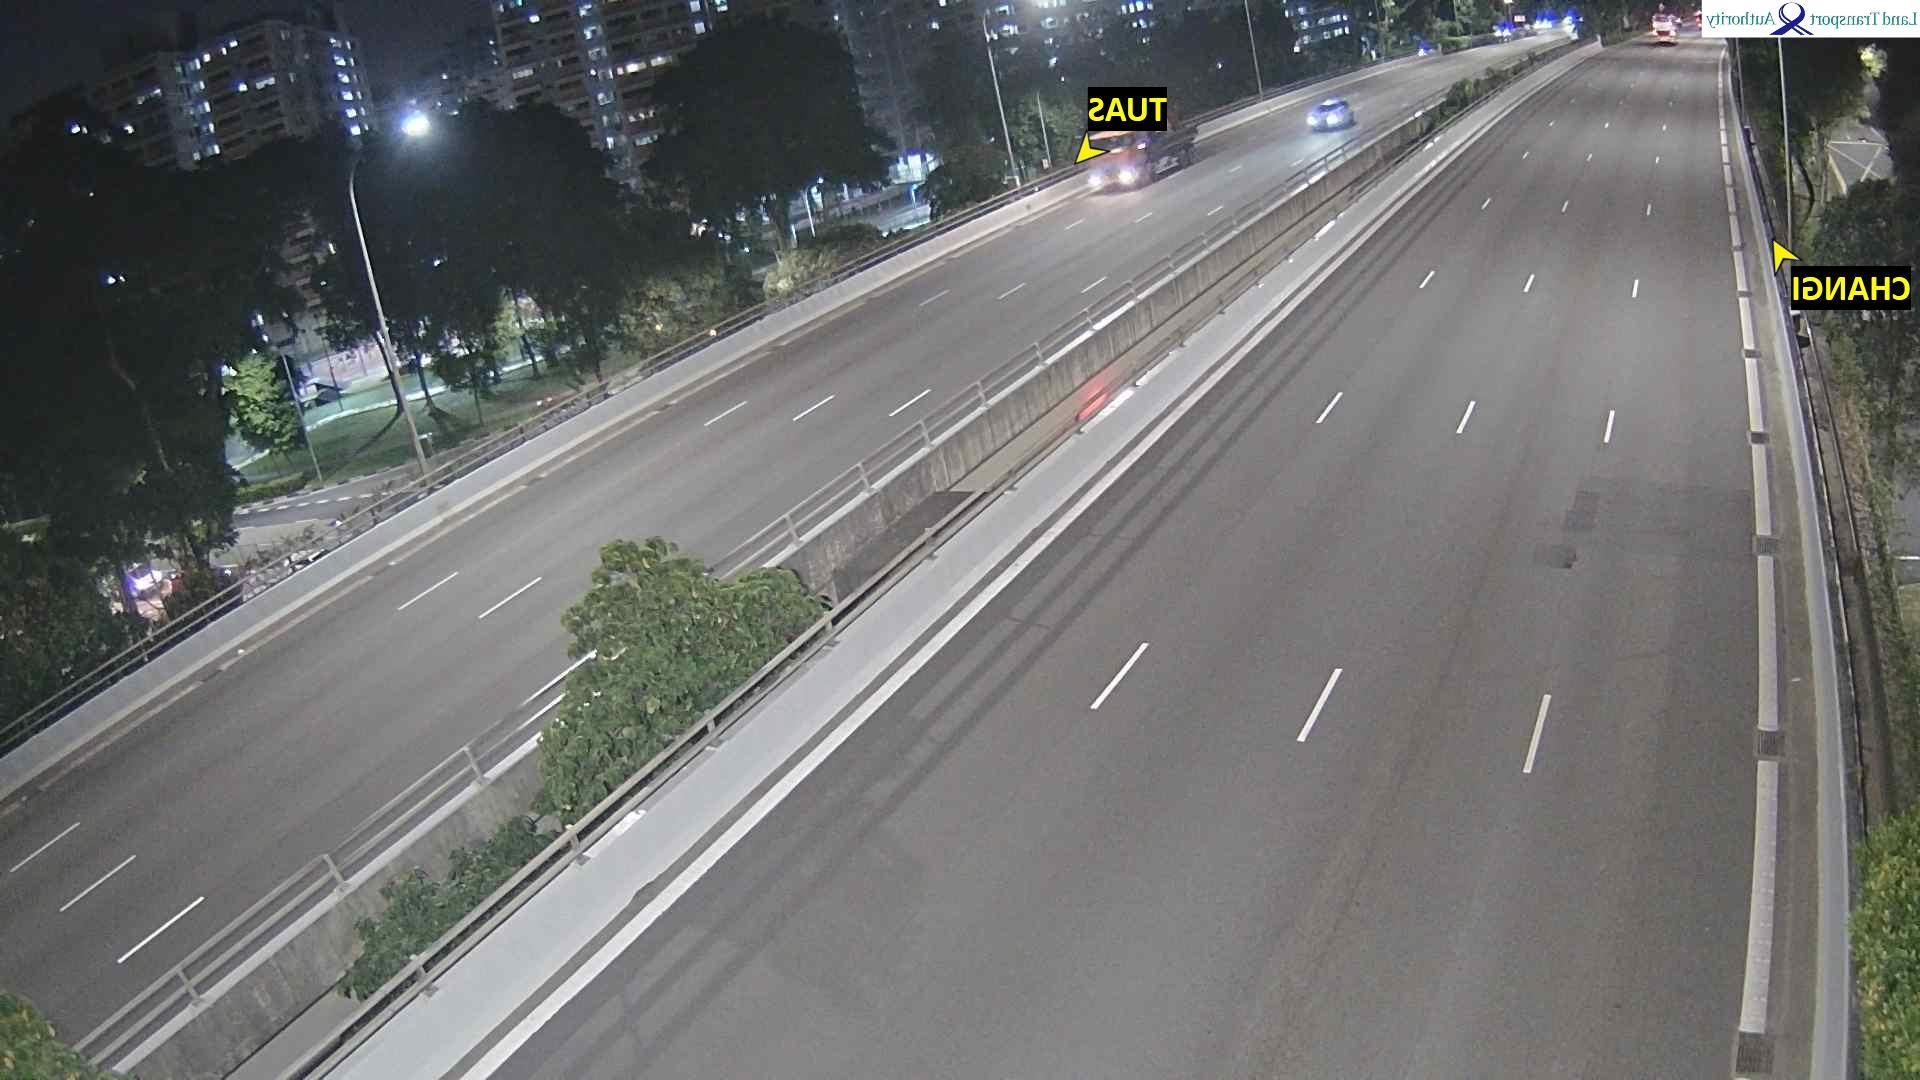incoming: (1083, 130, 1147, 201), (1306, 100, 1344, 132)
